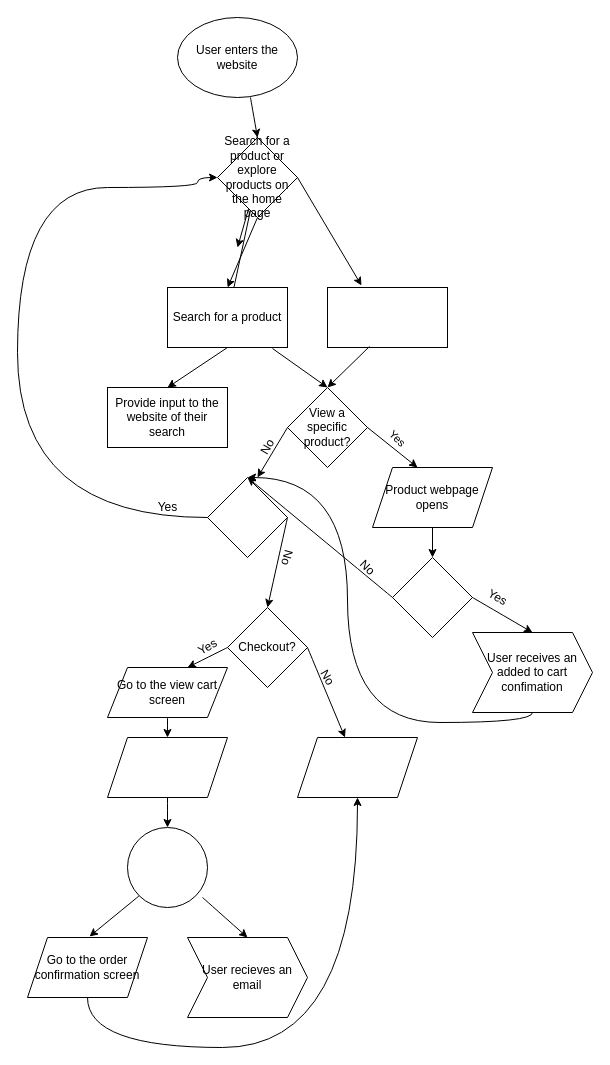
This 610x1065 diagram has some shape labels left out. The box of each missing label's shape, as (x1, y1, x2, y2) in pixels:
Add to cart?: (392, 556, 472, 638)
Continue shopping?: (206, 476, 288, 558)
Exploring the products on the home page: (326, 286, 448, 348)
Go to the viewpoint screen: (106, 736, 228, 798)
Leave website: (296, 736, 418, 798)
User inputs payment information: (126, 826, 208, 908)
